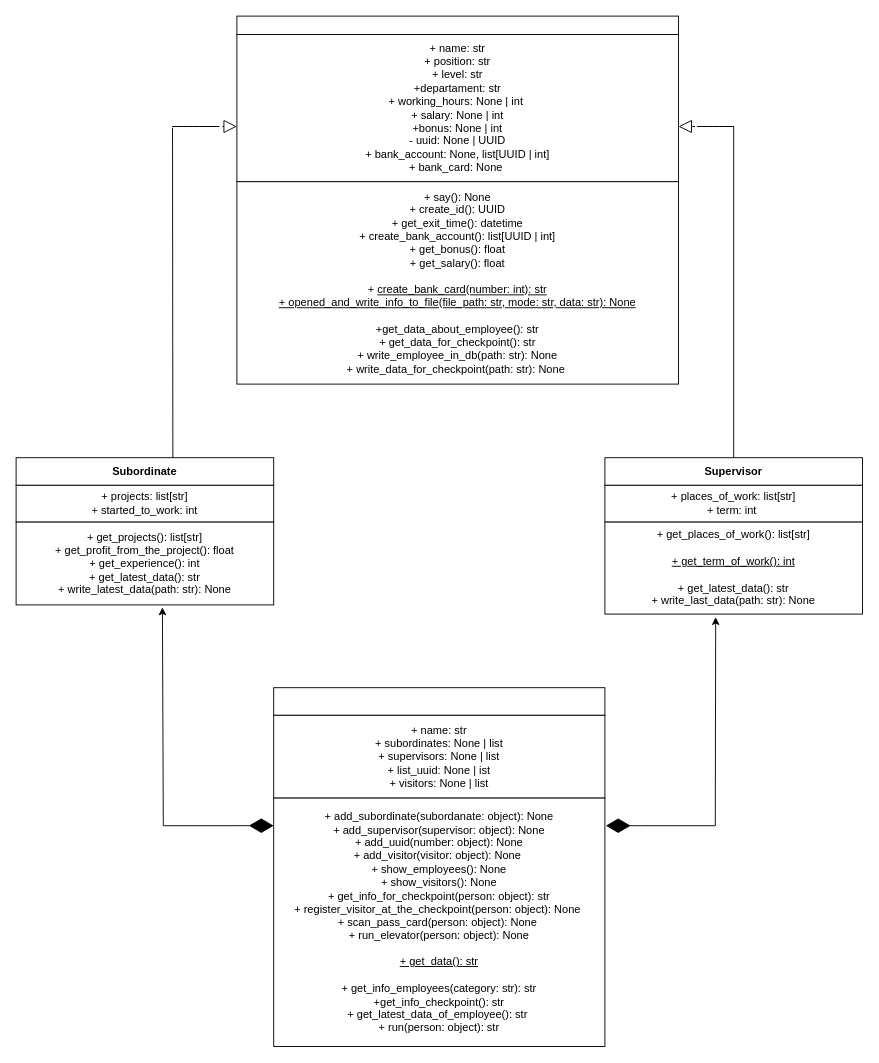
The diagram is 879 pixels wide and 1063 high, and some of its shapes have lost their labels. Each missing label, with the box of its shape:
Company: (273, 687, 605, 715)
Person: (236, 15, 678, 34)
